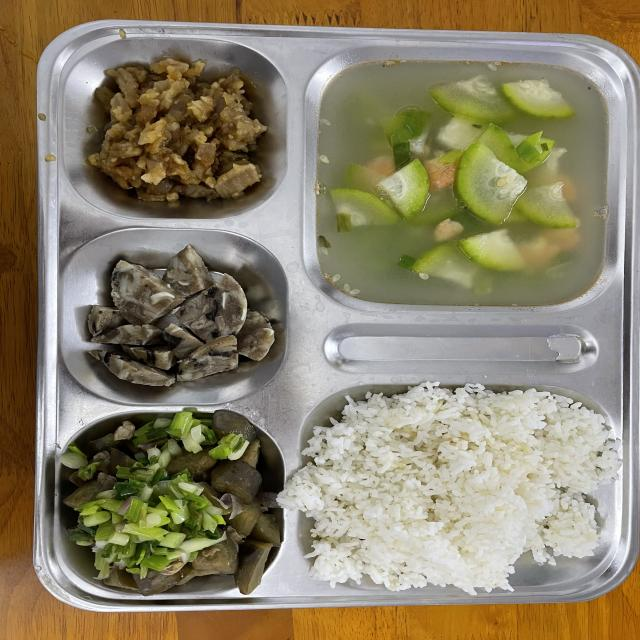canh bau: (320, 58, 606, 303)
com: (280, 383, 620, 595)
